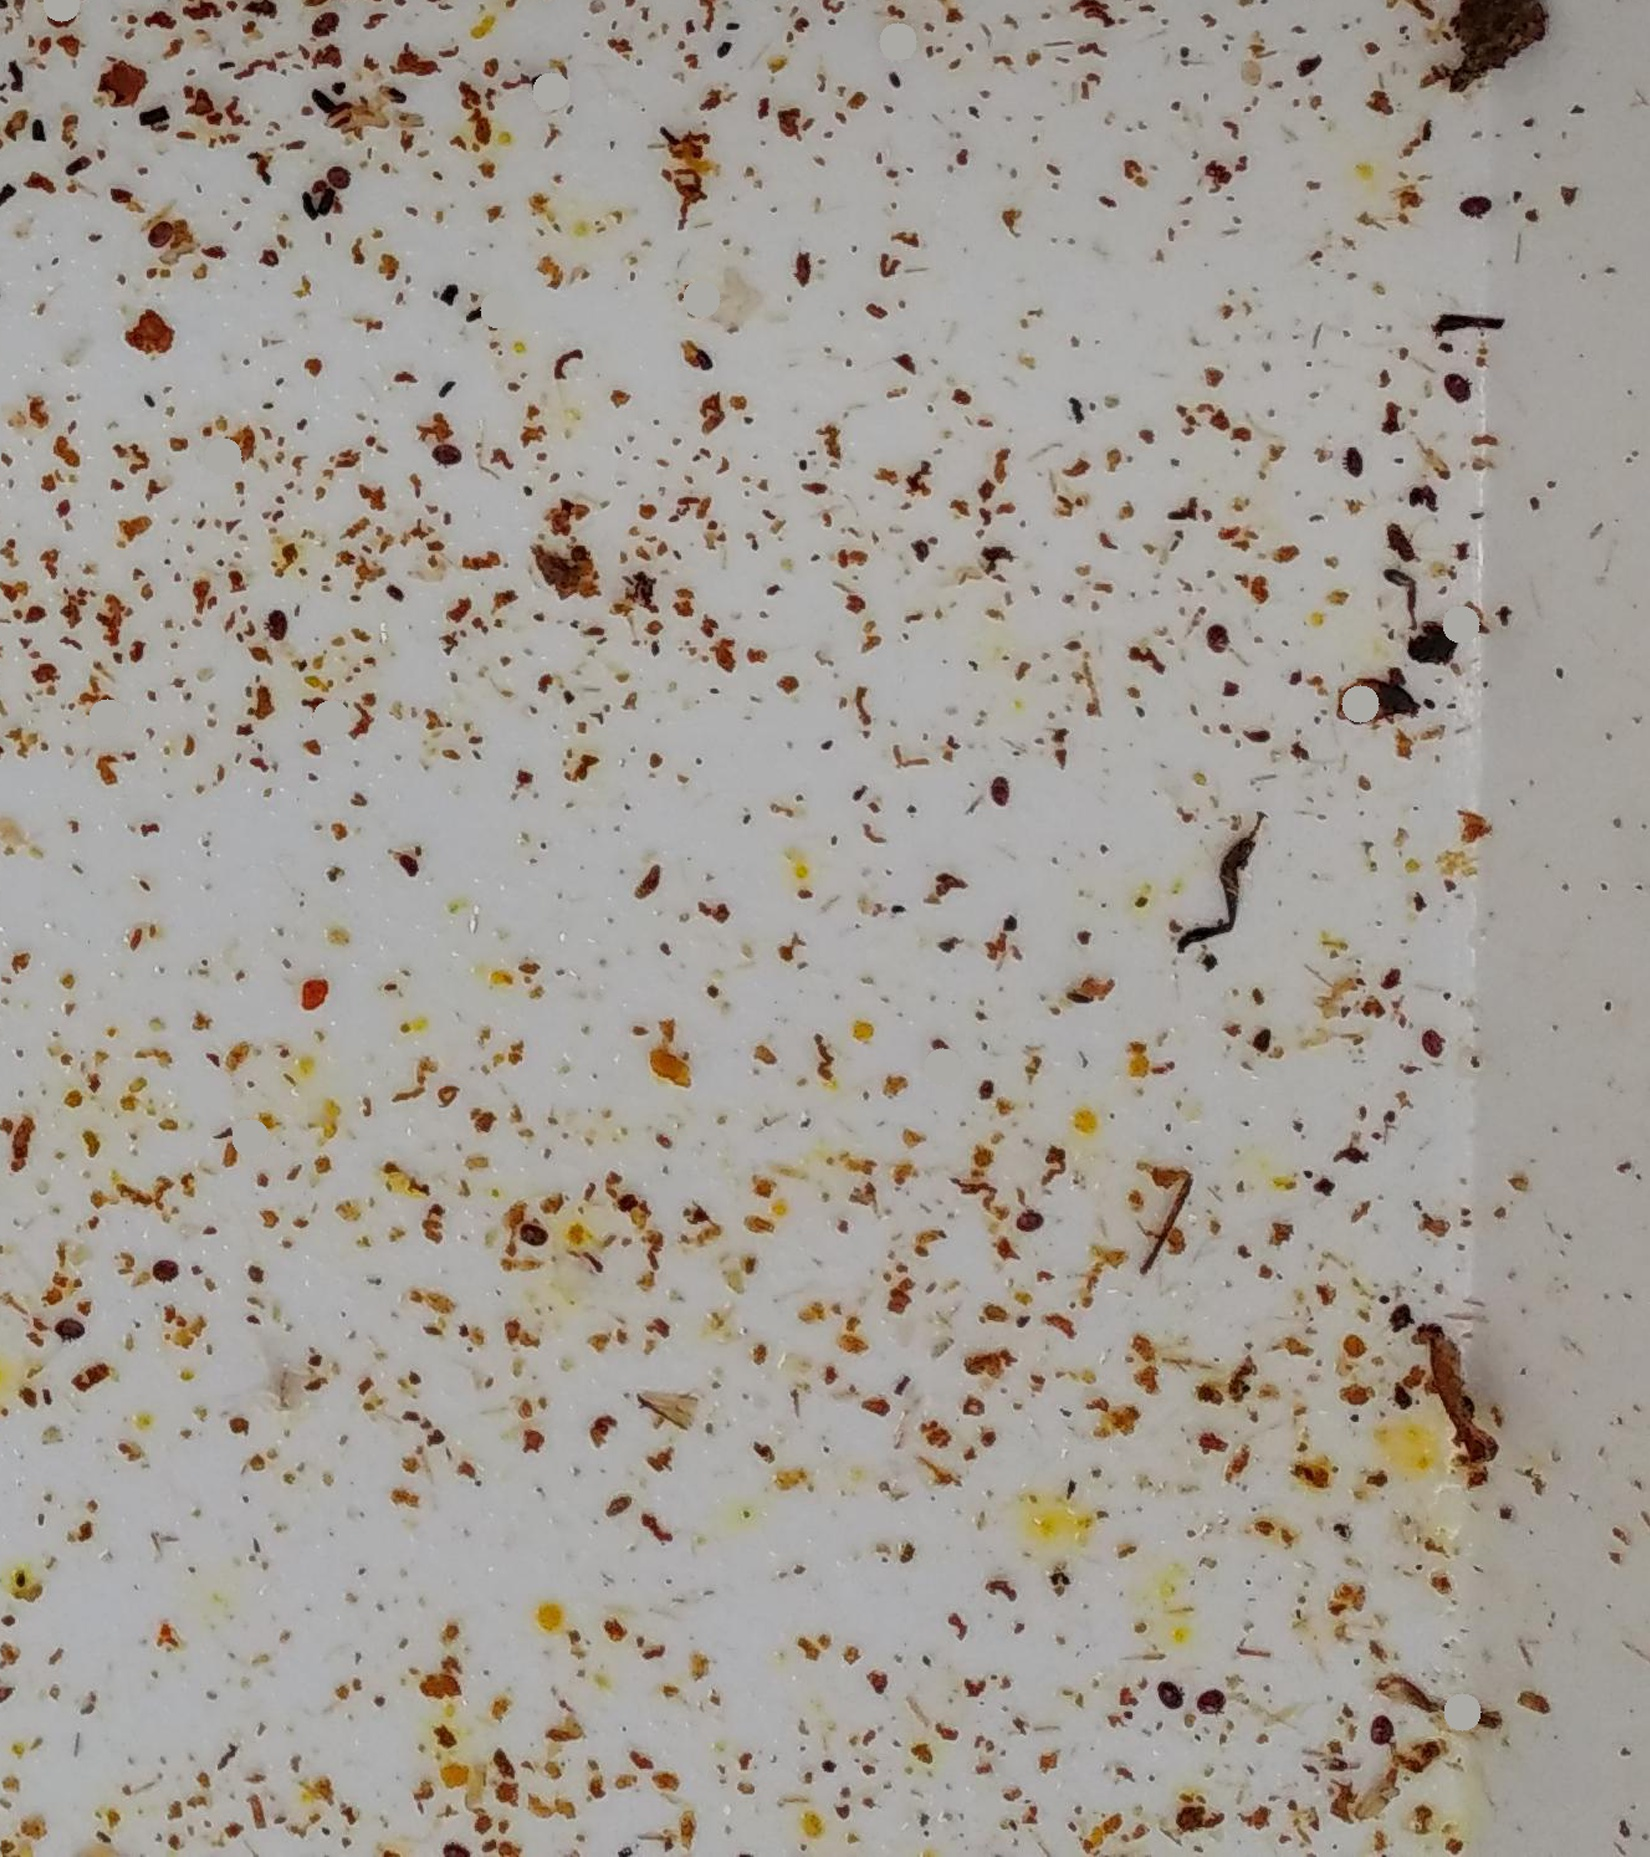Varroa: (1331, 443, 1363, 471), (981, 769, 1010, 799), (1010, 1202, 1042, 1230), (1413, 1026, 1441, 1054), (1204, 623, 1231, 653), (307, 5, 334, 35), (323, 162, 350, 191), (263, 613, 291, 640), (1199, 1683, 1226, 1712), (427, 435, 454, 462), (1437, 376, 1464, 403), (1155, 1683, 1182, 1710), (147, 1252, 175, 1277), (1453, 191, 1480, 217), (148, 221, 174, 248), (59, 1311, 83, 1335), (526, 1222, 546, 1242), (51, 13, 68, 37), (1373, 1718, 1394, 1738)
